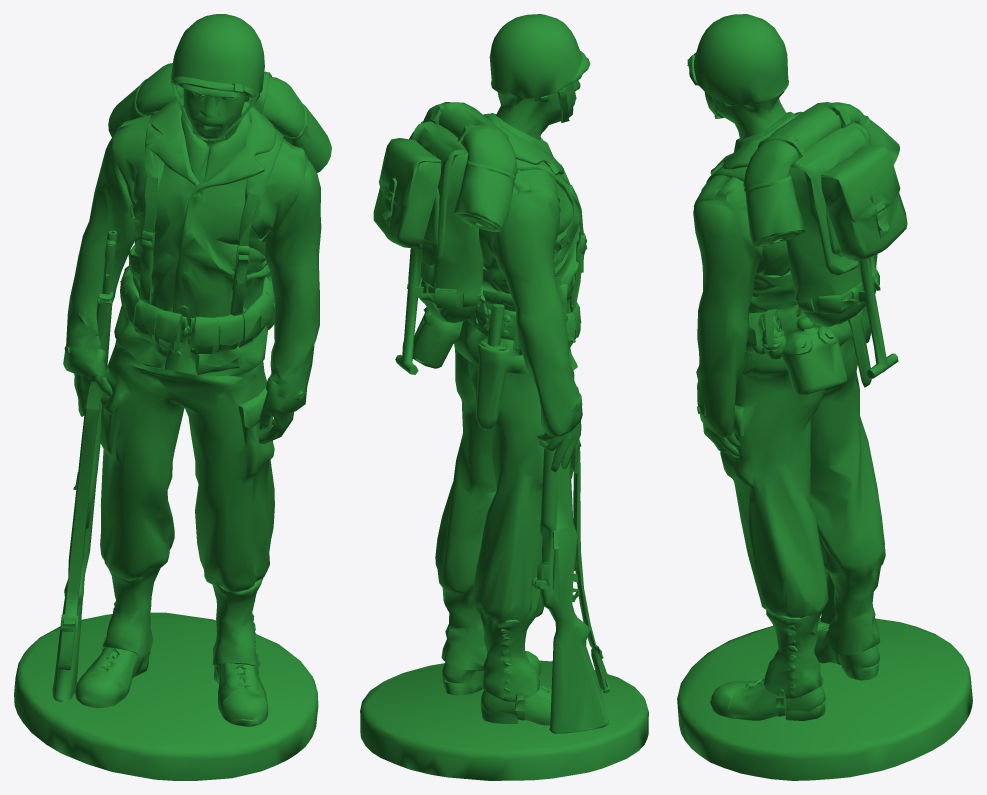
3 views of the same model, side by side, from view 1: azimuth 30°, elevation 25°; view 2: azimuth 150°, elevation 25°; view 3: azimuth 270°, elevation 25° (orthographic). The views are drawn at different scales.
Parts seen in each view (by area): view 1: Sphere.002; view 2: Sphere.002; view 3: Sphere.002.
Part boxes in pixels (box(x1,y1,x2,y2)): Sphere.002: box(14, 14, 331, 780); Sphere.002: box(360, 14, 648, 780); Sphere.002: box(677, 14, 972, 780).
Size of the model in its own units: 0.4415 by 1.16 by 0.4362.
